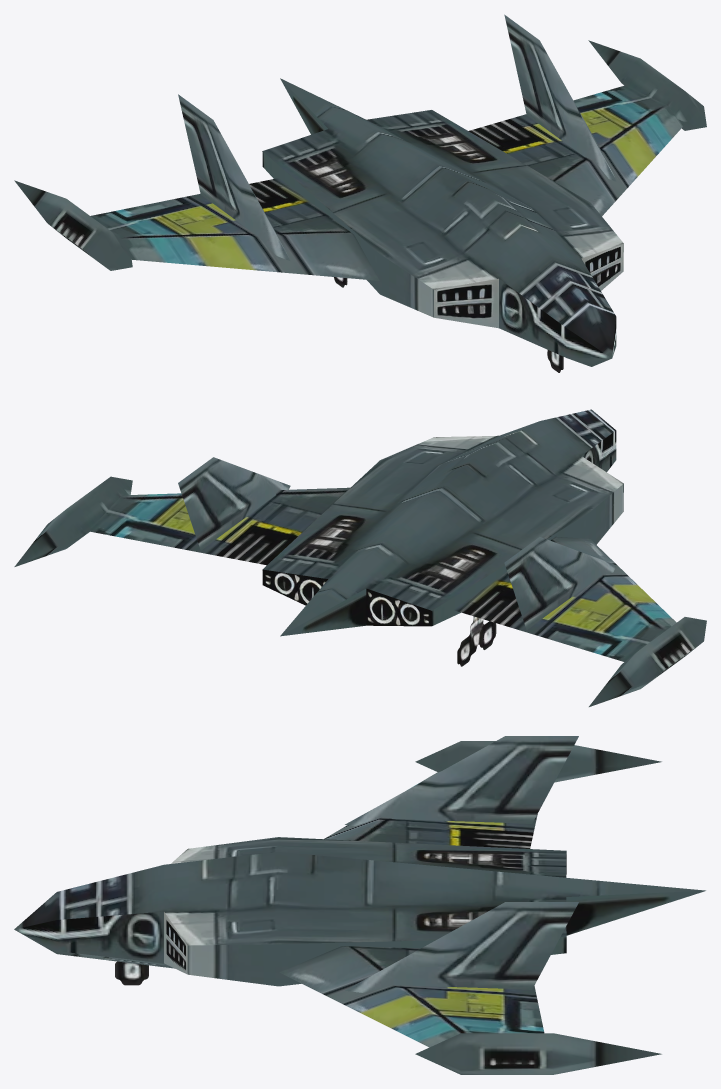
The model's file is slayerp_hdtex.glb.
The picture shows the model from 3 angles, top to bottom: view 1: azimuth 30°, elevation 25°; view 2: azimuth 150°, elevation 25°; view 3: azimuth 270°, elevation 25°; orthographic projection. The views are drawn at different scales.
Visible parts, largest first — view 1: Slayer; view 2: Slayer; view 3: Slayer.
Part boxes in pixels (x1=…): Slayer: x1=14, y1=14, x2=706, y2=372; Slayer: x1=14, y1=409, x2=706, y2=706; Slayer: x1=14, y1=736, x2=705, y2=1074.
Bounding box in the file's own units: 24.31 × 6.13 × 22.84.
Materials: 1 (1 with a texture image).
